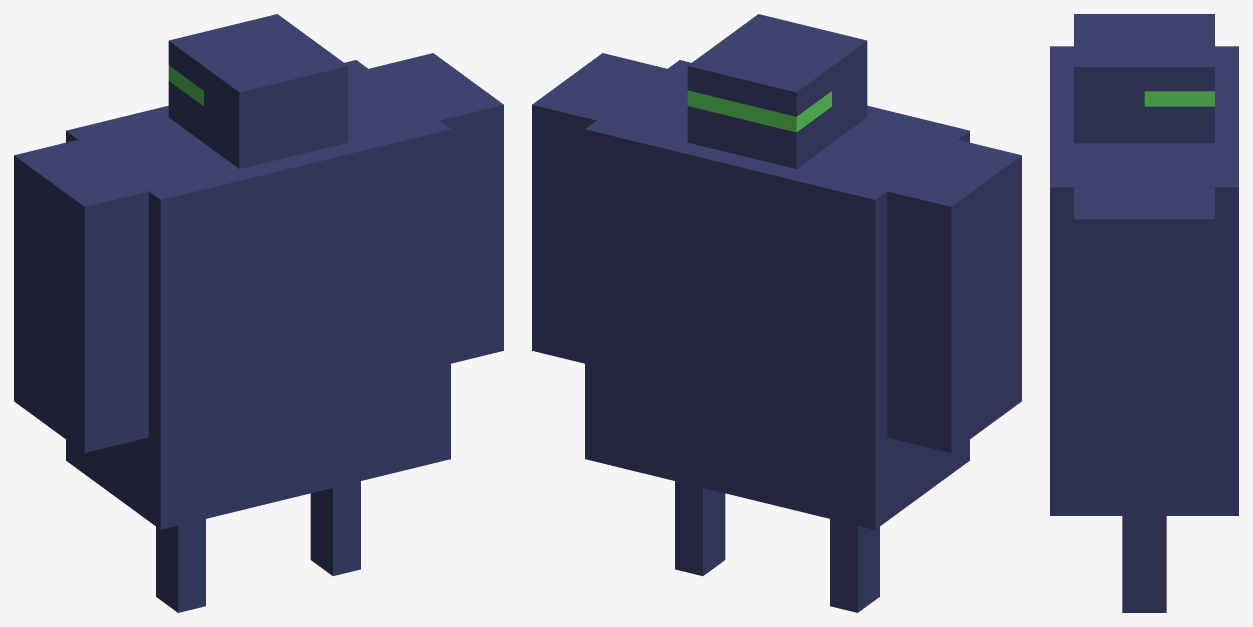
The model's file is robot2.gltf.
3 views of the same model, side by side, from view 1: azimuth 30°, elevation 25°; view 2: azimuth 150°, elevation 25°; view 3: azimuth 270°, elevation 25° (orthographic).
Visible parts, largest first — view 1: cube_body, cube_arm_left, cube_head, cube_arm_right, cube_leg_right, cube_leg_left; view 2: cube_body, cube_arm_left, cube_head, cube_arm_right, cube_leg_right, cube_leg_left; view 3: cube_arm_right, cube_body, cube_head, cube_leg_right.
Boxes of the visible parts, bbox=[...] form: cube_body: bbox=[66, 60, 450, 529]; cube_arm_left: bbox=[14, 139, 148, 452]; cube_head: bbox=[168, 14, 348, 168]; cube_arm_right: bbox=[369, 53, 503, 363]; cube_leg_right: bbox=[310, 481, 360, 575]; cube_leg_left: bbox=[156, 519, 205, 612]; cube_body: bbox=[585, 60, 969, 529]; cube_arm_left: bbox=[887, 139, 1021, 452]; cube_head: bbox=[687, 14, 867, 168]; cube_arm_right: bbox=[532, 53, 666, 363]; cube_leg_right: bbox=[675, 481, 725, 575]; cube_leg_left: bbox=[830, 519, 879, 612]; cube_arm_right: bbox=[1074, 187, 1214, 464]; cube_body: bbox=[1050, 46, 1238, 515]; cube_head: bbox=[1074, 14, 1214, 143]; cube_leg_right: bbox=[1122, 516, 1166, 612].
Size of the model in its own units: 1.47 by 1.78 by 0.5763.
